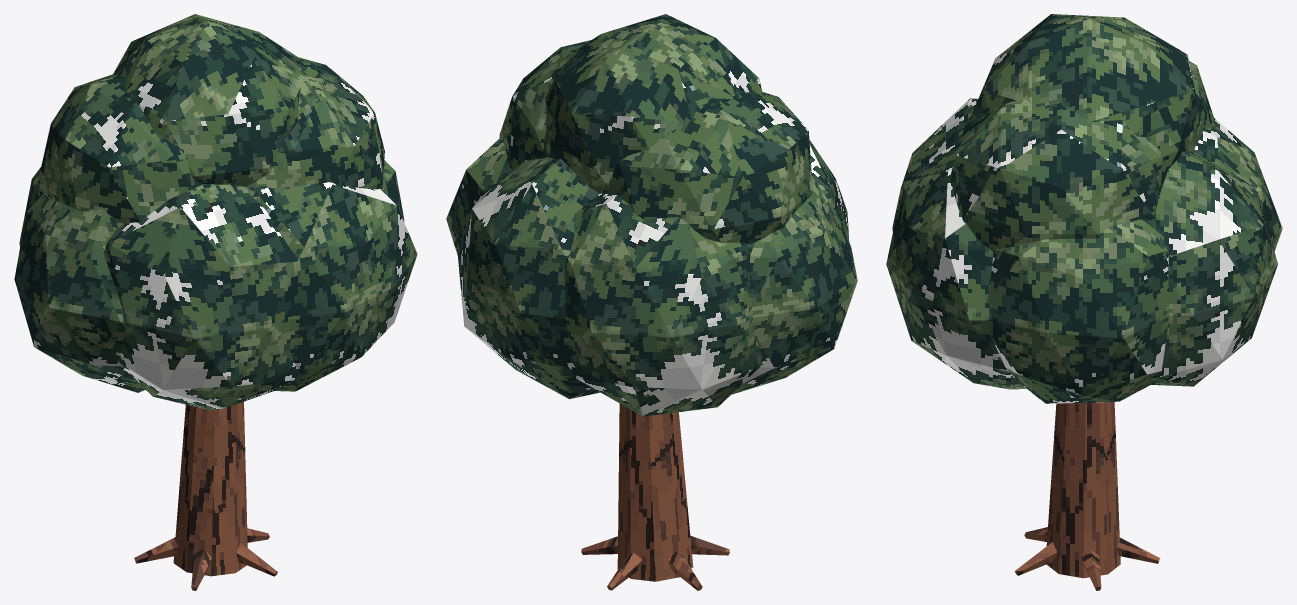
File: arvore.glb
3 renders of one model, left to right at view 1: azimuth 30°, elevation 25°; view 2: azimuth 150°, elevation 25°; view 3: azimuth 270°, elevation 25°, orthographic.
Parts seen in each view (by area): view 1: bosque_arvore; view 2: bosque_arvore; view 3: bosque_arvore.
Part boxes in pixels (box(x1,y1,x2,y2)): bosque_arvore: box(14, 14, 417, 590); bosque_arvore: box(446, 14, 857, 590); bosque_arvore: box(886, 14, 1282, 590).
Size of the model in its own units: 1.57 by 2.19 by 1.45.
Materials: 2 (2 with a texture image).
